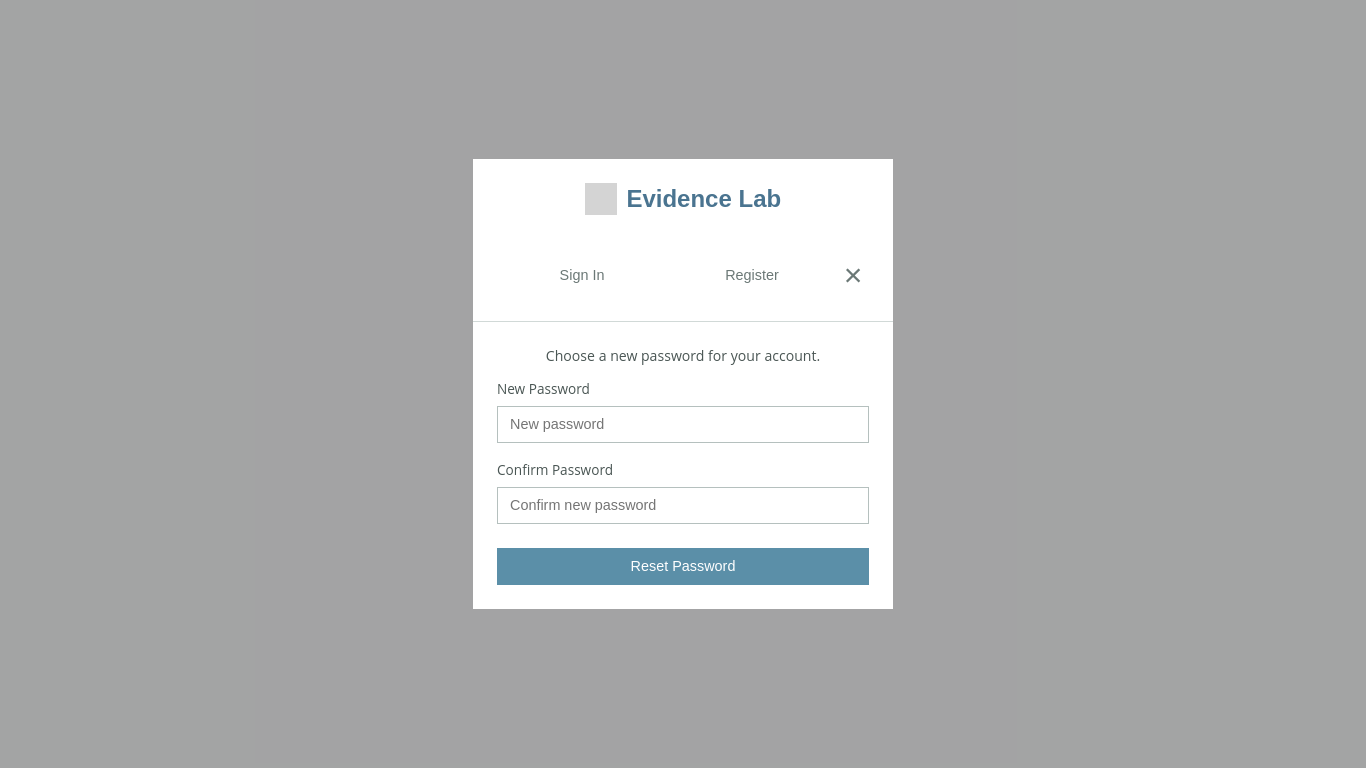
it: LoginModal — Reset password › shows expired token error
The width and height of the screenshot is (1366, 768).
Type "newpassword123" into the password field labelled "New Password" at (683, 424), box 497,406 -> 869,443
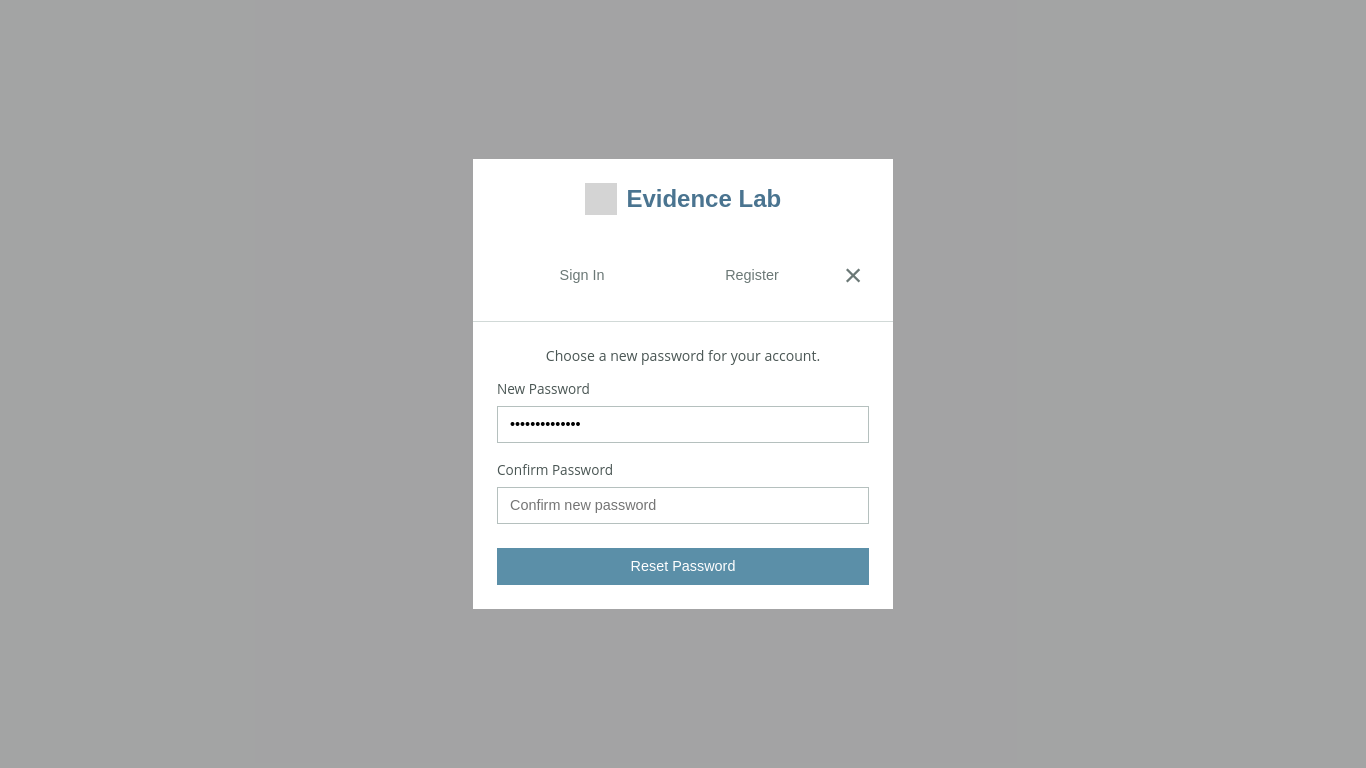
Type "newpassword123" into the password field labelled "Confirm Password" at (683, 505), box 497,487 -> 869,524
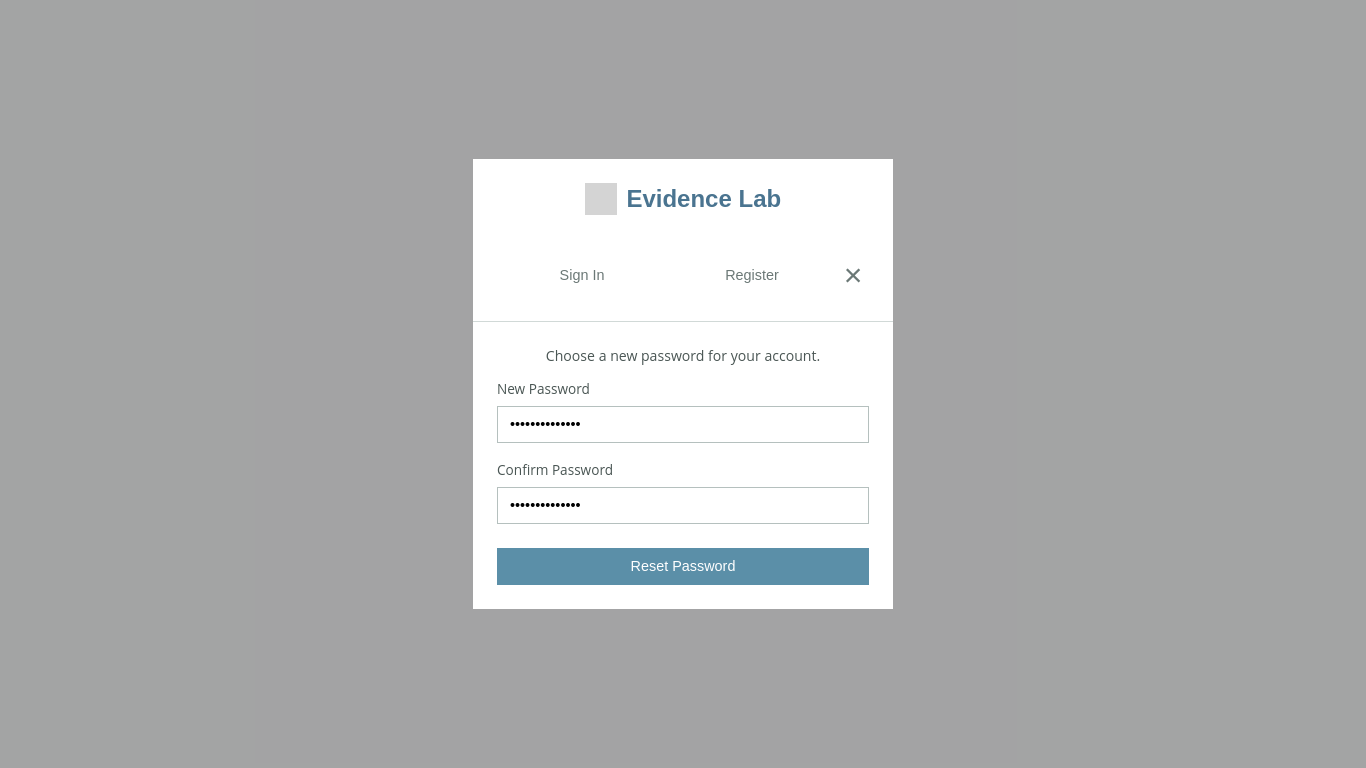
Click the button "Reset Password" at (683, 566), box 497,548 -> 869,585
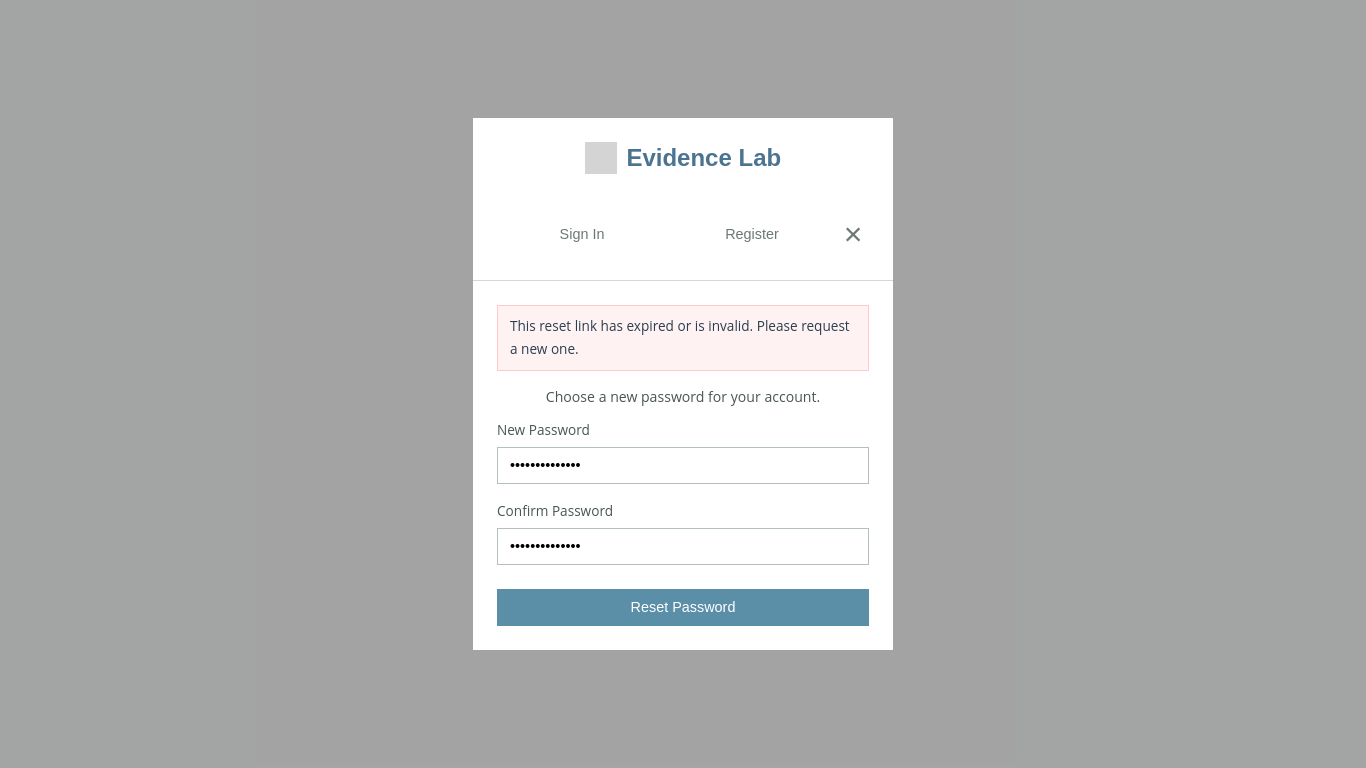
Now the text "This reset link has expired or is invalid. Please request a new one." is shown, box 497,305 -> 869,371
